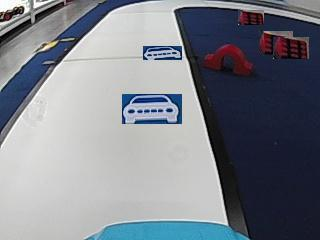bridge: (205, 43, 253, 74)
